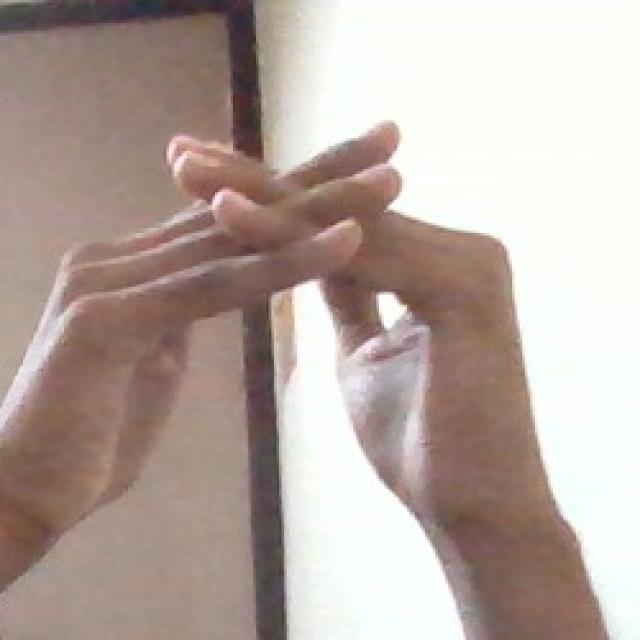Alphabet-W: (44, 108, 530, 539)
